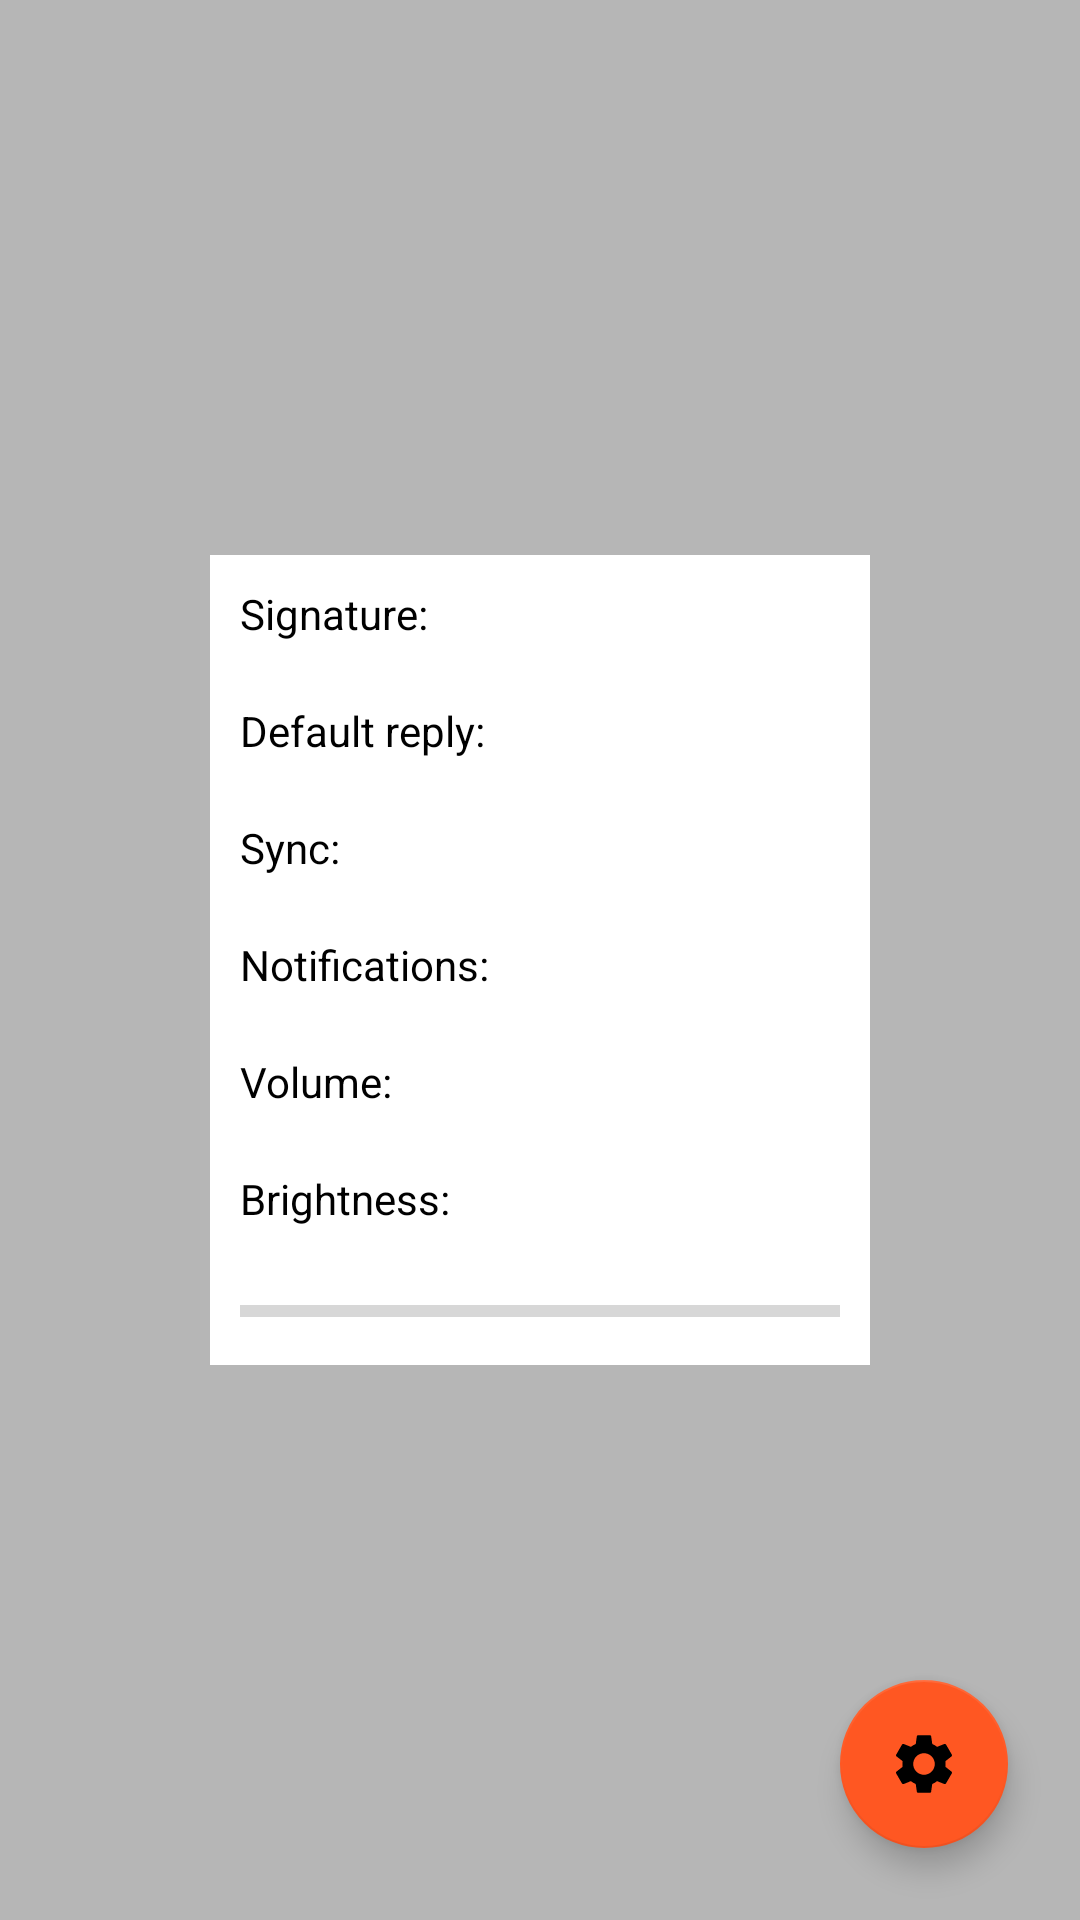

Where to tap for icons on this 1080 × 1920 app screen, as (x,y):
settings: (924,1764)
